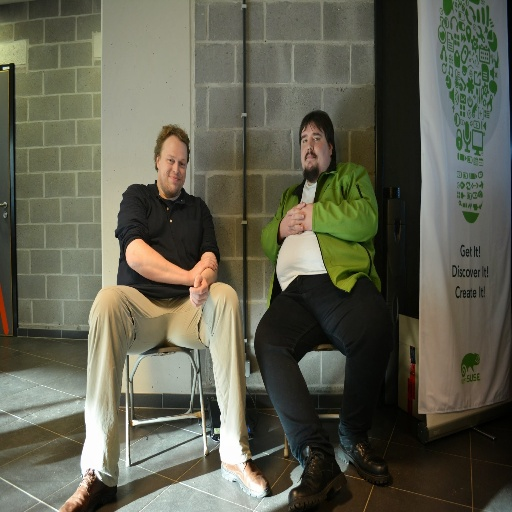hand: (177, 252, 216, 303), (283, 201, 307, 233), (287, 202, 310, 234), (189, 273, 209, 307)
